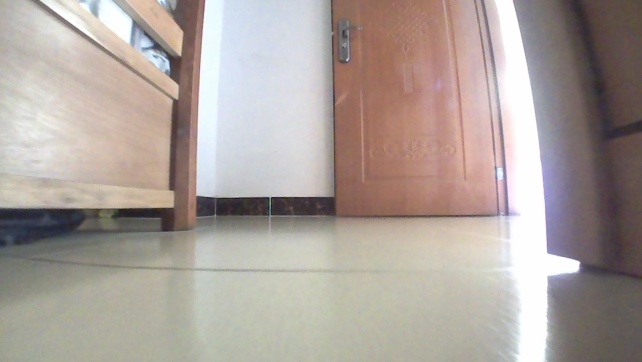bed1: (0, 0, 212, 237)
door_anno: (328, 0, 510, 221)
